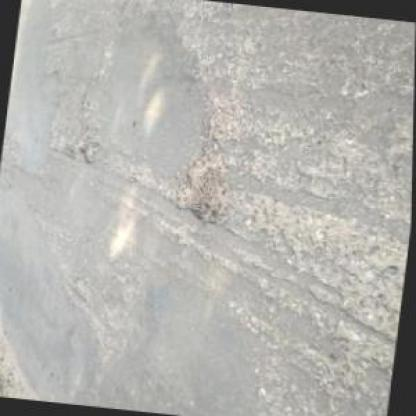pothole: (176, 147, 234, 226), (78, 137, 101, 164)
